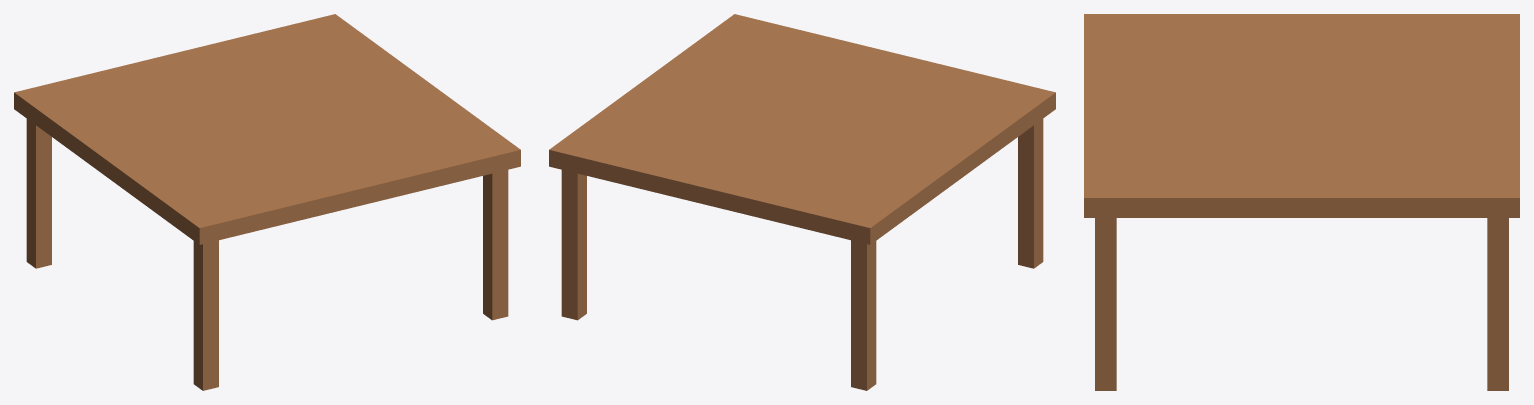
The model's file is table.fbx.
The picture shows the model from 3 angles, left to right: view 1: azimuth 30°, elevation 25°; view 2: azimuth 150°, elevation 25°; view 3: azimuth 270°, elevation 25°; orthographic projection. The views are drawn at different scales.
Visible parts, largest first — view 1: Table_Top; view 2: Table_Top; view 3: Table_Top.
Boxes of the visible parts, x1,y1,x2,y2 form: Table_Top: (14, 14, 520, 390); Table_Top: (549, 14, 1055, 390); Table_Top: (1084, 14, 1519, 390).
Size of the model in its own units: 24 by 12 by 24.
